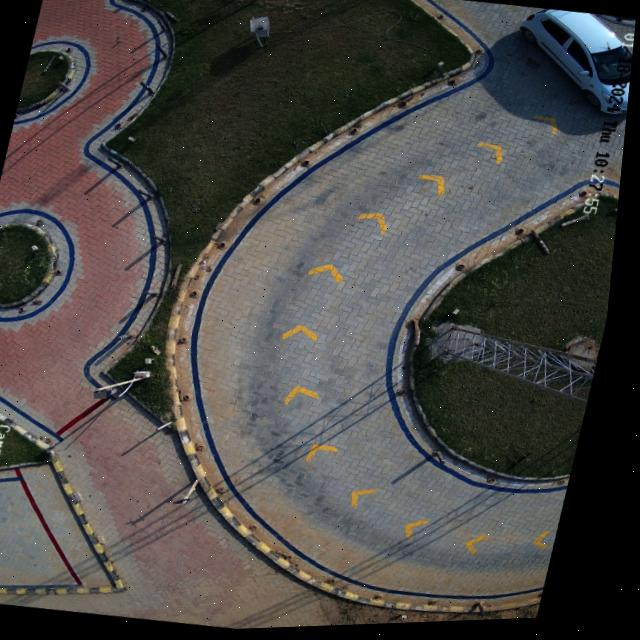car: (517, 13, 634, 120)
